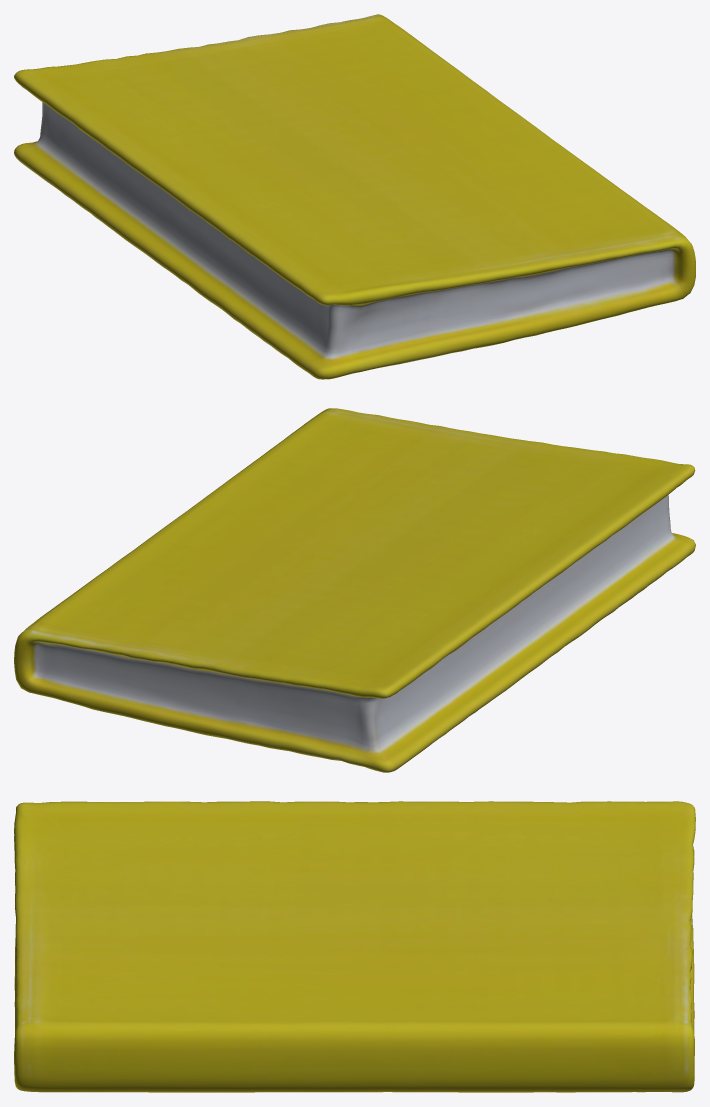
The model's file is 80cfab39e74f_yellow_book__3d_ass.fbx.
3 renders of one model, top to bottom at view 1: azimuth 30°, elevation 25°; view 2: azimuth 150°, elevation 25°; view 3: azimuth 270°, elevation 25°, orthographic. The views are drawn at different scales.
Parts seen in each view (by area): view 1: mesh; view 2: mesh; view 3: mesh.
Boxes of the visible parts, x1=… form: mesh: x1=14, y1=14, x2=695, y2=379; mesh: x1=14, y1=408, x2=695, y2=772; mesh: x1=14, y1=801, x2=695, y2=1092.
Size of the model in its own units: 69.87 by 16.08 by 99.89.
